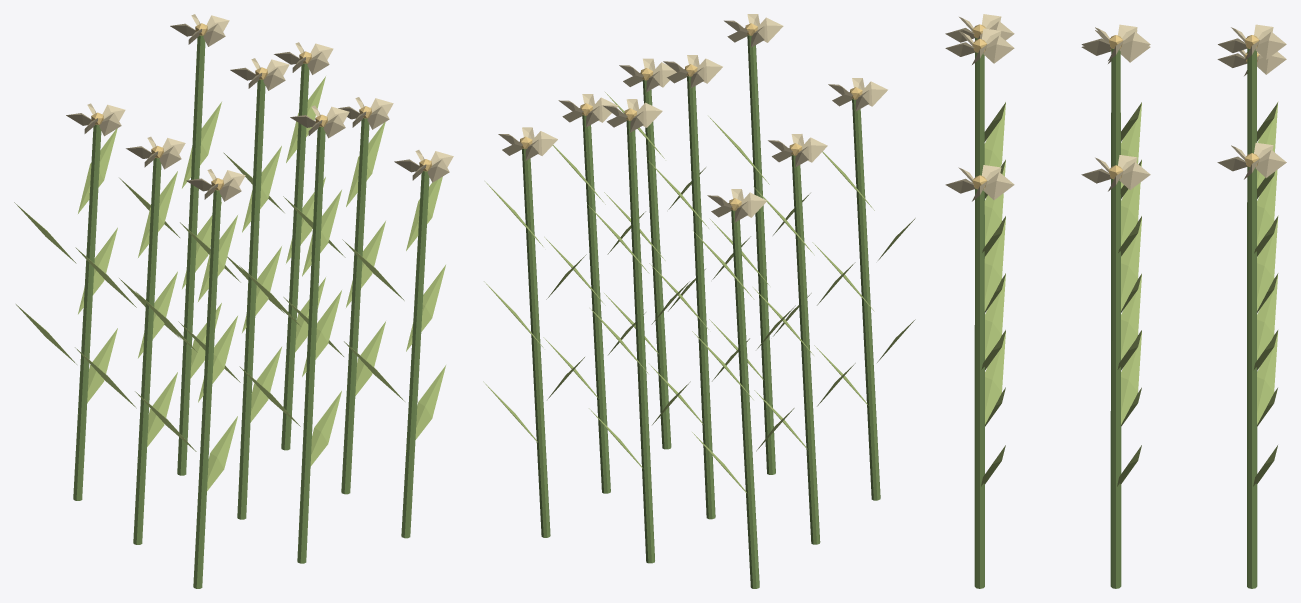
3 views of the same model, side by side, from view 1: azimuth 30°, elevation 25°; view 2: azimuth 150°, elevation 25°; view 3: azimuth 270°, elevation 25° (orthographic). The views are drawn at different scales.
Parts seen in each view (by area): view 1: GF-031 Flowering flax patch batched; view 2: GF-031 Flowering flax patch batched; view 3: GF-031 Flowering flax patch batched.
Boxes of the visible parts, x1,y1,x2,y2 form: GF-031 Flowering flax patch batched: (14, 14, 453, 588); GF-031 Flowering flax patch batched: (483, 14, 915, 588); GF-031 Flowering flax patch batched: (945, 14, 1286, 588).
Bounding box in the file's own units: 0.39 × 0.5351 × 0.3266.
